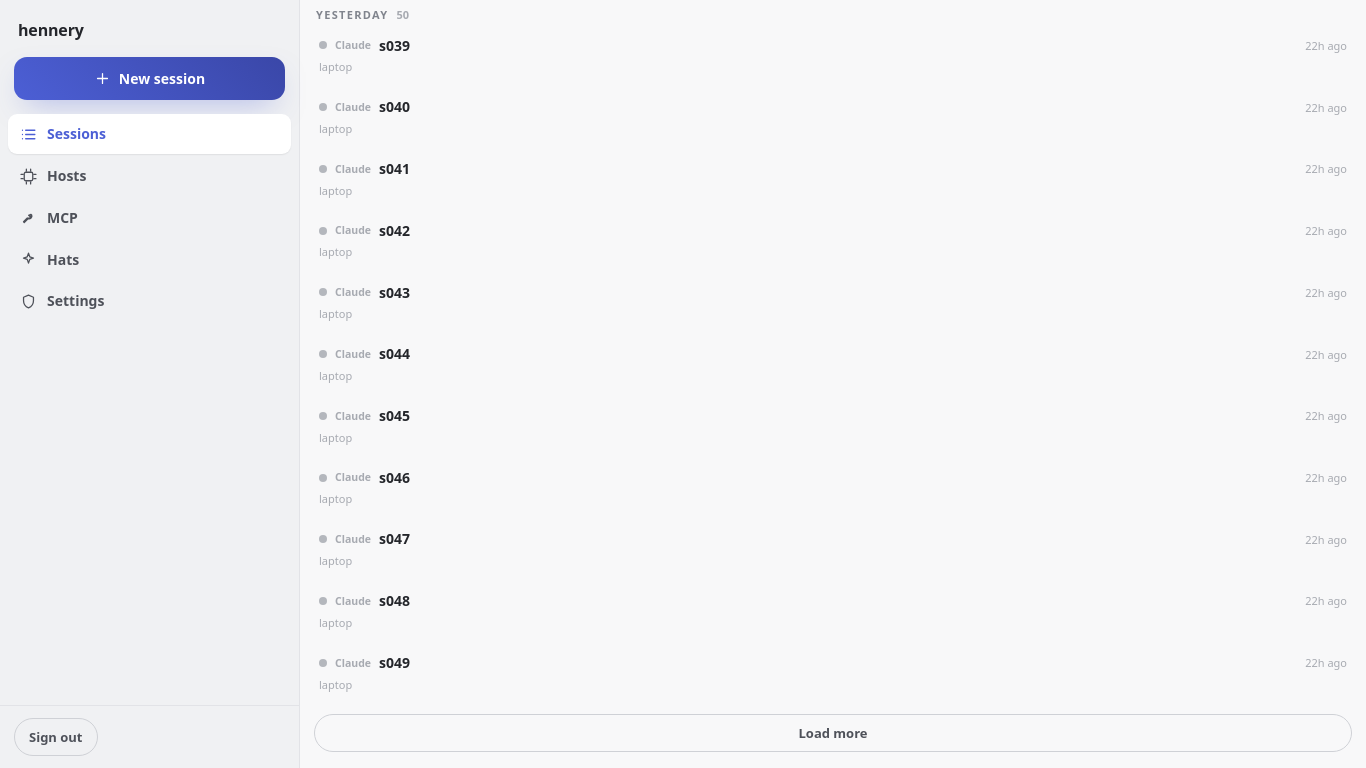
Test: windowed rows › fetches the next page only once every row held is shown
(page scrolled)
Click the button "Load more" at (833, 733), box [314,714,1352,752]
(page scrolled)
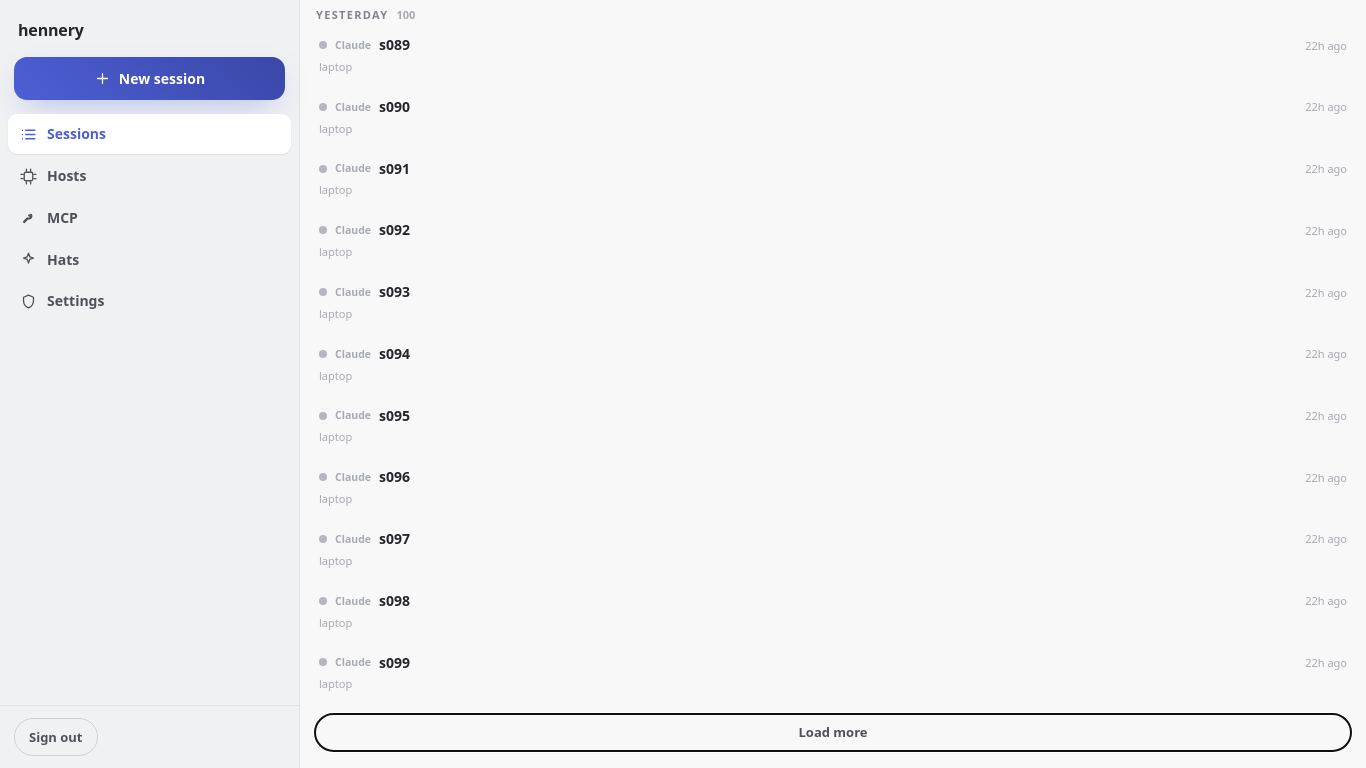
Click the button "Load more" at (833, 732), box [314,713,1352,752]
(page scrolled)
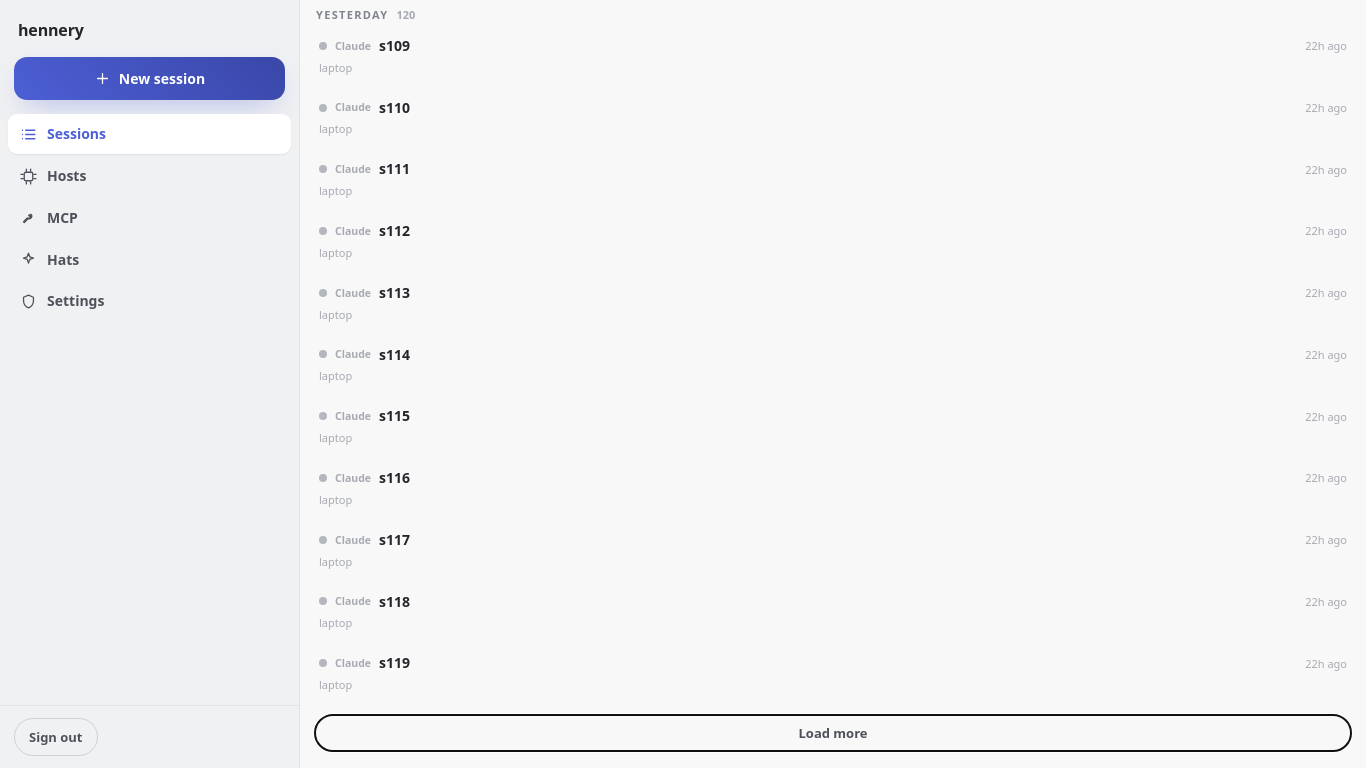
Click the button "Load more" at (833, 733), box [314,714,1352,752]
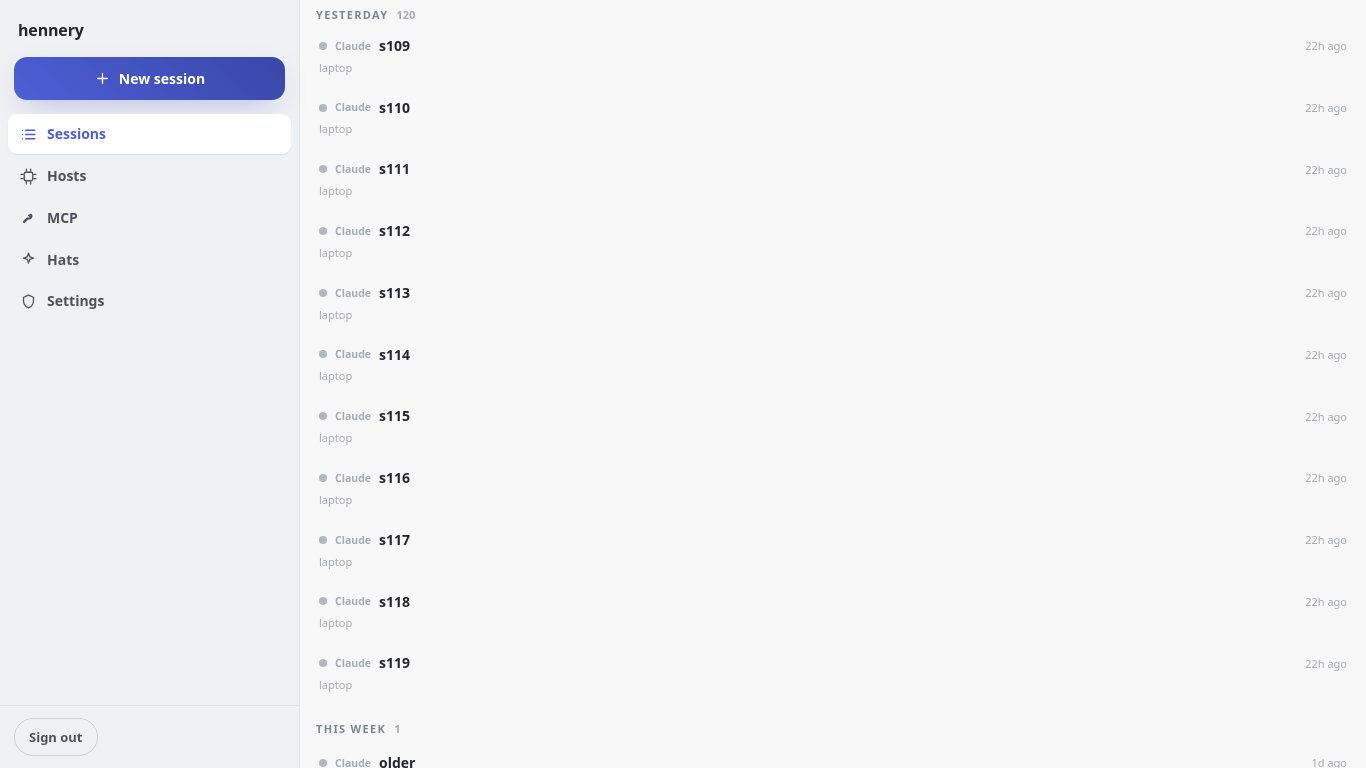
expect the button "Load more" is gone: met
